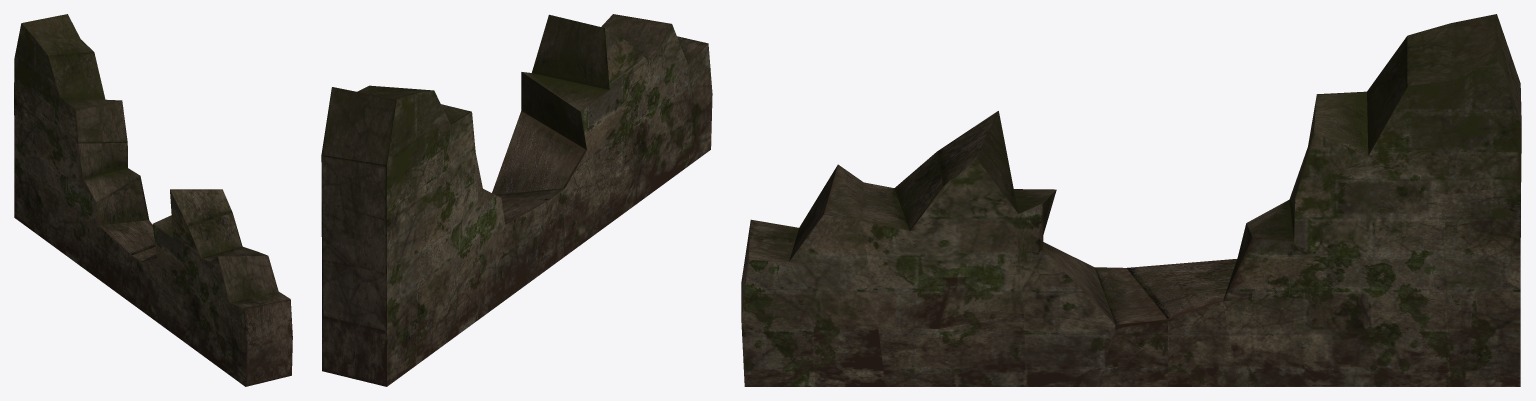
The model's file is rozbita -zed1-textured.fbx.
The picture shows the model from 3 angles, left to right: view 1: azimuth 30°, elevation 25°; view 2: azimuth 150°, elevation 25°; view 3: azimuth 270°, elevation 25°; orthographic projection. The views are drawn at different scales.
Parts seen in each view (by area): view 1: Cube; view 2: Cube; view 3: Cube.
Part boxes in pixels (x1,y1,x2,y2): Cube: (14, 14, 292, 386); Cube: (321, 14, 712, 386); Cube: (741, 14, 1521, 386).
Size of the model in its own units: 133 by 548 by 1157.
2 materials, 2 textured.
